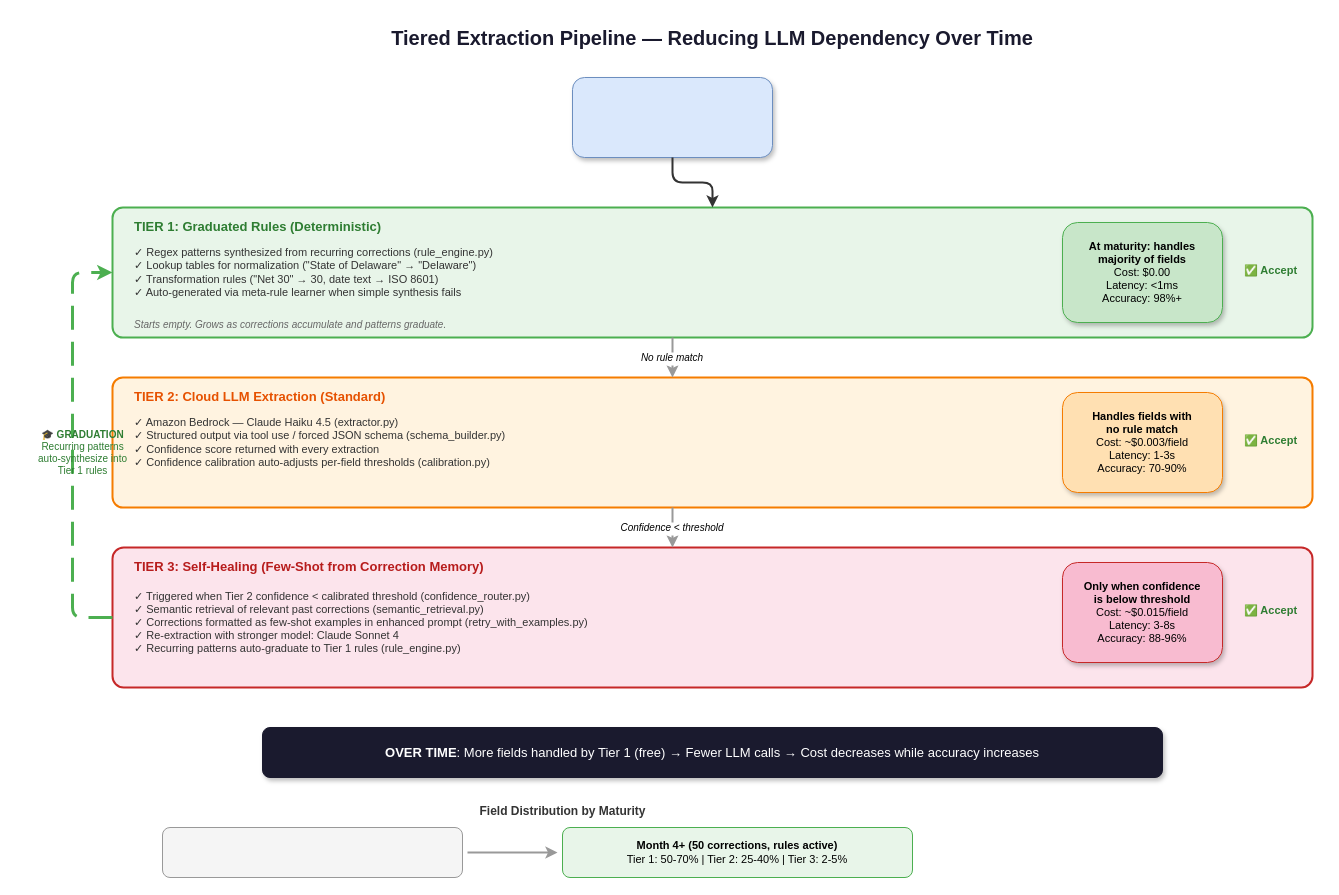
Image size: 1339x895. Some labels were removed from this diagram. Here are the shapes that lost their labels. From the top down, the centre of each, then its label:
At point (673, 118): "📄 Incoming Document (Contract, NDA, Lease)".
At point (312, 852): "Week 1 (0 corrections) Tier 1: 0% | Tier 2: 60% | Tier 3: 40%".
